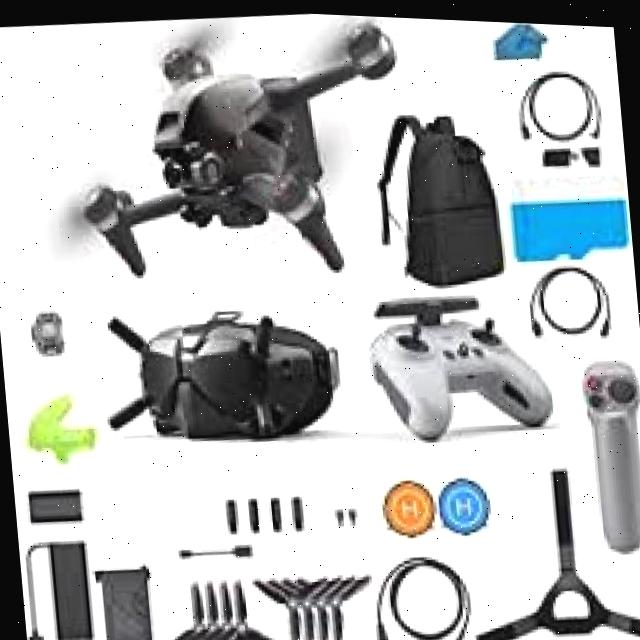drone: (56, 2, 434, 321)
